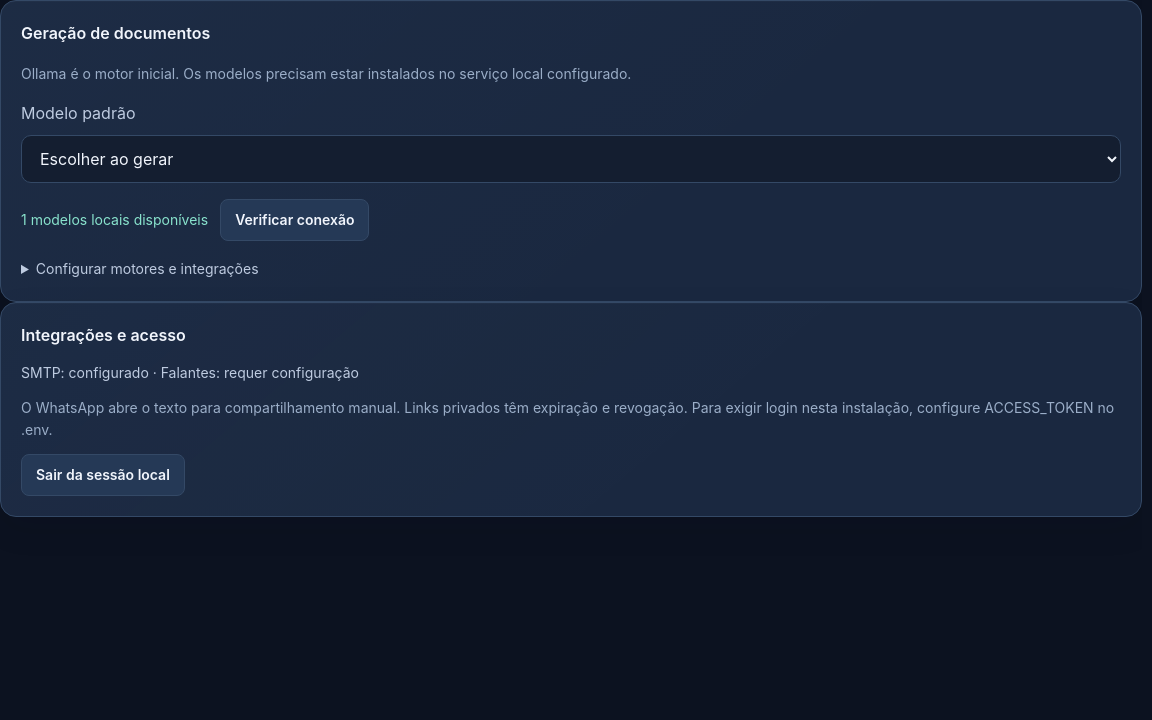
Scenario: shows engine and integration status, and explains failures
The image size is (1152, 720).
Expected: the text "1 modelos locais disponíveis" is shown, [21, 208, 208, 232]
Expected: the text "SMTP: configurado · Falantes: requer configuração" is shown, [21, 364, 359, 380]
Select "qwen3:4b" in the dropdown labelled "Modelo padrão" at (571, 159), box [21, 135, 1121, 183]
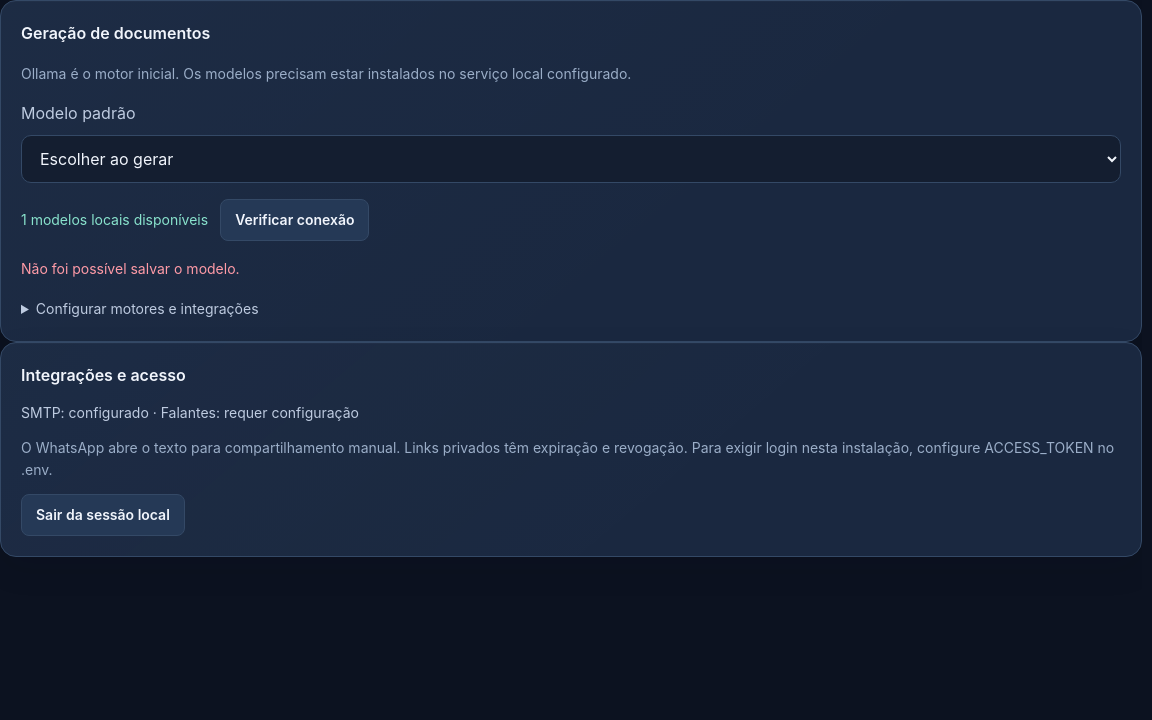
Now the message reads "Não foi possível salvar o modelo.", box [21, 260, 240, 277]
